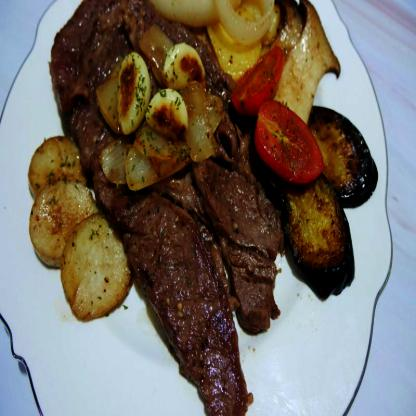Carne: (51, 0, 247, 415), (108, 0, 277, 337)
